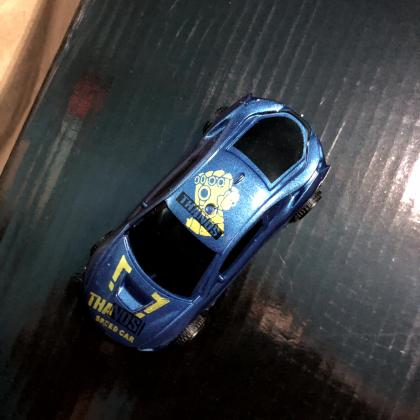Car: (83, 95, 329, 355)
